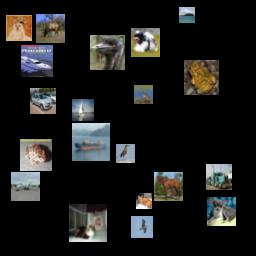airplane: (11, 172, 40, 201)
automobile: (30, 88, 56, 114)
bird: (90, 35, 125, 70), (131, 216, 153, 238), (134, 85, 153, 104), (116, 144, 135, 163)
cat: (69, 204, 107, 242), (136, 193, 152, 209)
deer: (36, 14, 65, 43)
dog: (131, 28, 160, 57), (207, 197, 236, 226), (6, 15, 32, 41)
frog: (184, 60, 219, 95), (20, 139, 52, 171)
ship: (72, 123, 110, 161), (21, 45, 53, 77), (72, 99, 94, 121), (179, 7, 195, 23)
truck: (206, 164, 232, 190)
